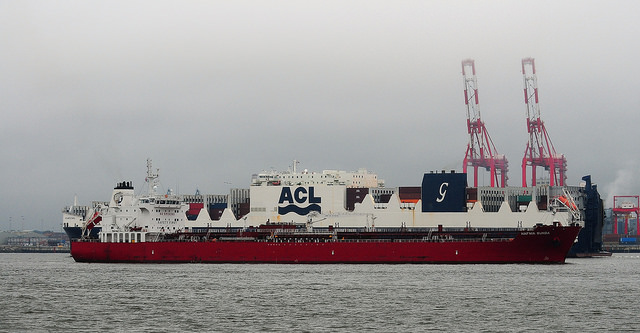container_ship: (60, 163, 596, 227)
tanker: (70, 157, 573, 263)
